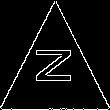N_W: (33, 53, 77, 93)
